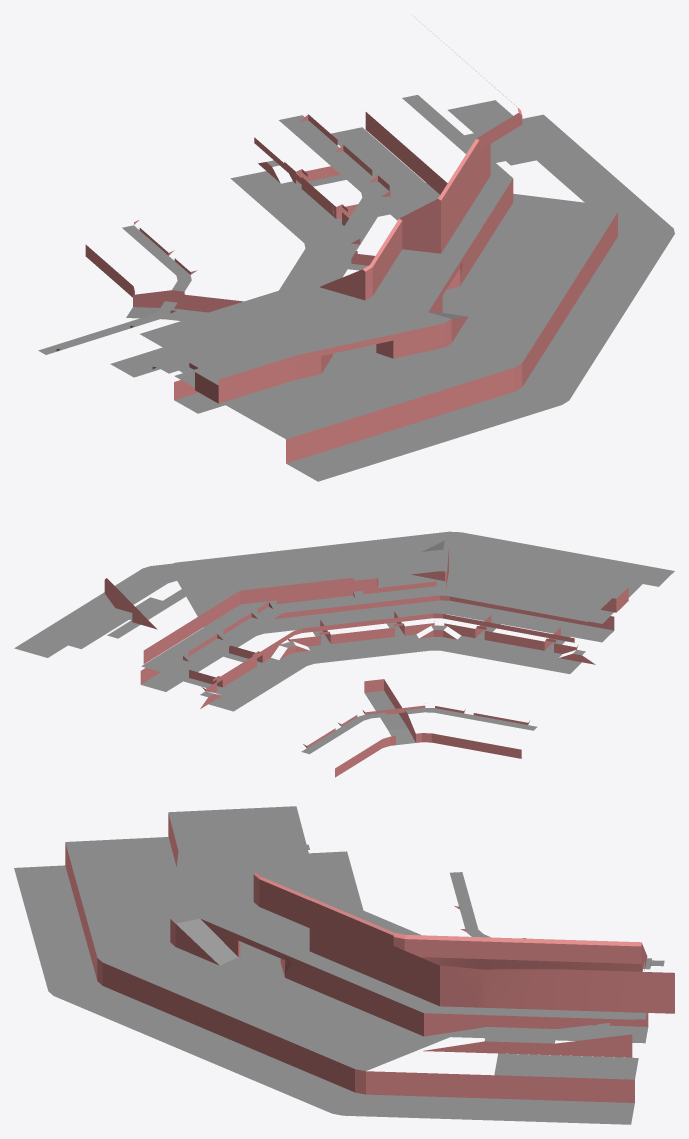
3 views of the same model, one above another, from view 1: azimuth 30°, elevation 25°; view 2: azimuth 150°, elevation 25°; view 3: azimuth 270°, elevation 25° (orthographic). The views are drawn at different scales.
Parts seen in each view (by area): view 1: Base_05; view 2: Base_05; view 3: Base_05.
Part boxes in pixels (x1,y1,x2,y2): Base_05: [38, 15, 674, 481]; Base_05: [14, 531, 674, 777]; Base_05: [14, 806, 674, 1124].
Bounding box in the file's own units: 132 × 37.12 × 131.
